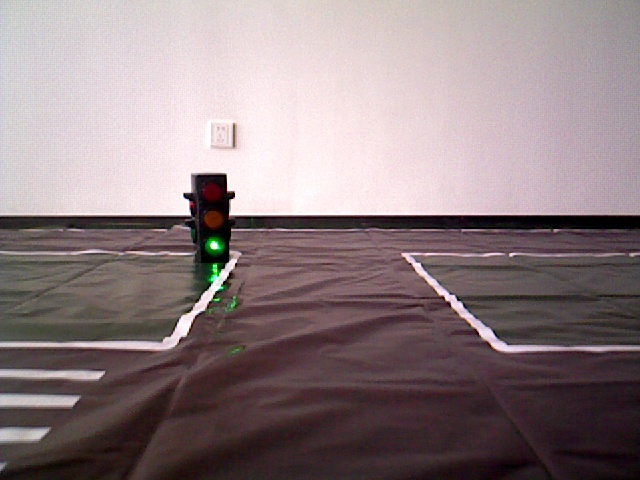green: (191, 178, 228, 255)
